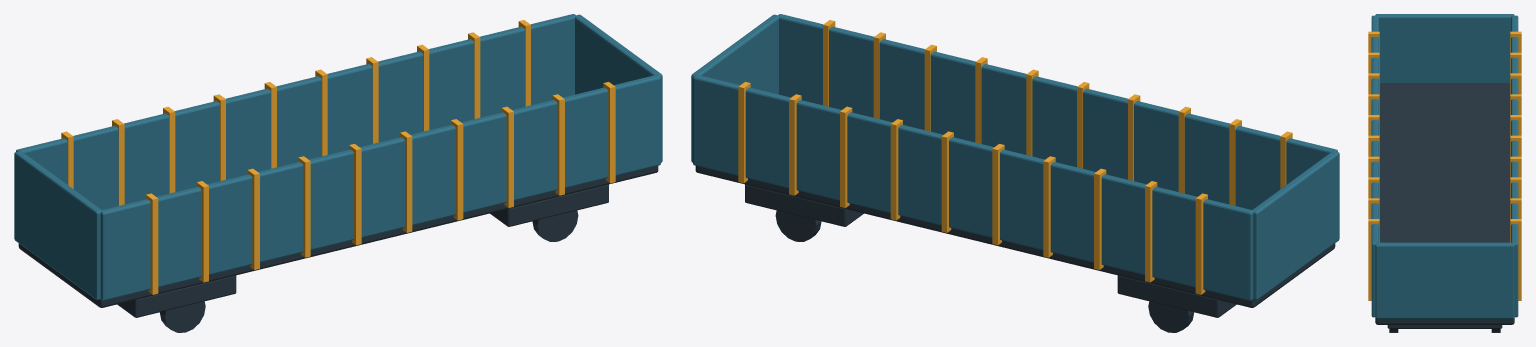
File: wagon-high.glb
3 renders of one model, left to right at view 1: azimuth 30°, elevation 25°; view 2: azimuth 150°, elevation 25°; view 3: azimuth 270°, elevation 25°, orthographic. The views are drawn at different scales.
Parts seen in each view (by area): view 1: wagon_side_left, wagon_side_right, wagon_end_front, wagon_deck, wagon_end_back, bogie, bogie.001, wagon_wheel, wagon_wheel.002, wagon_rib, wagon_rib.012, wagon_rib.010 (+16 smaller); view 2: wagon_side_right, wagon_side_left, wagon_end_front, wagon_deck, wagon_end_back, bogie, bogie.001, wagon_wheel.001, wagon_wheel.003, wagon_rib.001, wagon_rib.013, wagon_rib.011 (+16 smaller); view 3: wagon_deck, wagon_end_back, wagon_end_front, wagon_side_left, wagon_side_right, bogie.001, wagon_rib.018, wagon_rib.019, wagon_rib, wagon_rib.001, wagon_rib.002, wagon_rib.003 (+14 smaller).
Boxes of the visible parts, bbox=[...] form: wagon_side_left: bbox=[100, 75, 660, 300]; wagon_side_right: bbox=[16, 14, 575, 209]; wagon_end_front: bbox=[14, 151, 101, 300]; wagon_deck: bbox=[18, 165, 658, 307]; wagon_end_back: bbox=[575, 14, 662, 162]; bogie: bbox=[117, 275, 236, 317]; bogie.001: bbox=[490, 184, 608, 226]; wagon_wheel: bbox=[159, 301, 205, 332]; wagon_wheel.002: bbox=[532, 210, 578, 241]; wagon_rib: bbox=[146, 193, 158, 294]; wagon_rib.012: bbox=[451, 119, 463, 220]; wagon_rib.010: bbox=[400, 131, 412, 232]; wagon_side_right: bbox=[693, 75, 1253, 300]; wagon_side_left: bbox=[778, 14, 1337, 209]; wagon_end_front: bbox=[1252, 151, 1339, 300]; wagon_deck: bbox=[695, 165, 1335, 307]; wagon_end_back: bbox=[691, 14, 778, 162]; bogie: bbox=[1117, 275, 1236, 317]; bogie.001: bbox=[745, 184, 863, 226]; wagon_wheel.001: bbox=[1148, 301, 1194, 332]; wagon_wheel.003: bbox=[775, 210, 821, 241]; wagon_rib.001: bbox=[1195, 193, 1207, 294]; wagon_rib.013: bbox=[890, 119, 902, 220]; wagon_rib.011: bbox=[941, 131, 953, 232]; wagon_deck: bbox=[1375, 83, 1514, 324]; wagon_end_back: bbox=[1375, 242, 1514, 318]; wagon_end_front: bbox=[1375, 14, 1514, 82]; wagon_side_left: bbox=[1371, 15, 1378, 317]; wagon_side_right: bbox=[1511, 15, 1518, 317]; bogie.001: bbox=[1387, 325, 1502, 328]; wagon_rib.018: bbox=[1368, 219, 1379, 300]; wagon_rib.019: bbox=[1510, 219, 1521, 300]; wagon_rib: bbox=[1368, 31, 1379, 52]; wagon_rib.001: bbox=[1510, 31, 1521, 52]; wagon_rib.002: bbox=[1368, 52, 1379, 73]; wagon_rib.003: bbox=[1510, 52, 1521, 73].
Bounding box in the file's own units: 13.38 × 3.45 × 3.74.
